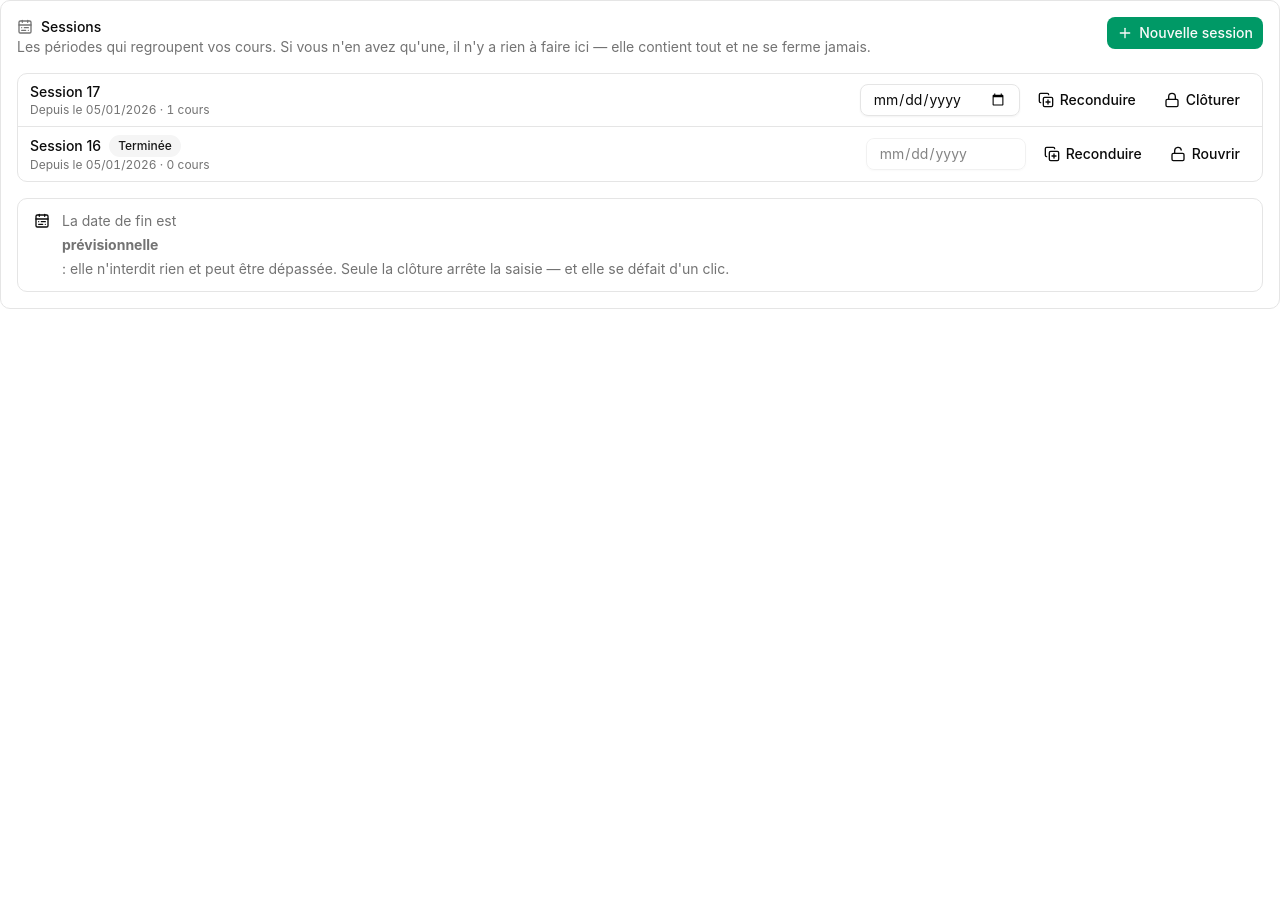
Test case: SectionSessions › dit que le compte n’a pas pu être chargé plutôt que d’afficher zéro
Click the button "Clôturer".
click(1202, 100)  # box [1154, 84, 1250, 116]
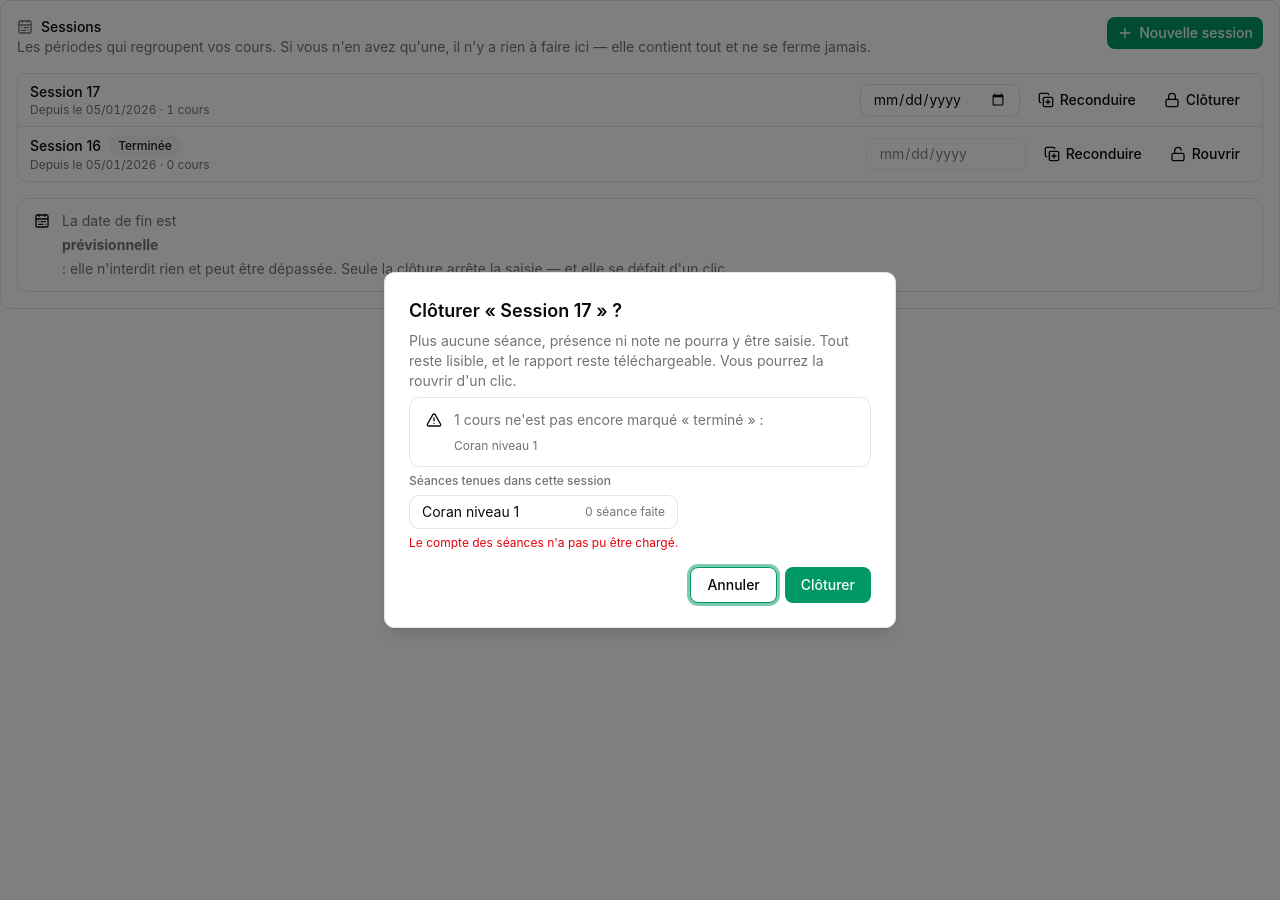
Now the text "Le compte des séances n'a pas pu être chargé." is shown, box [409, 535, 678, 551]
